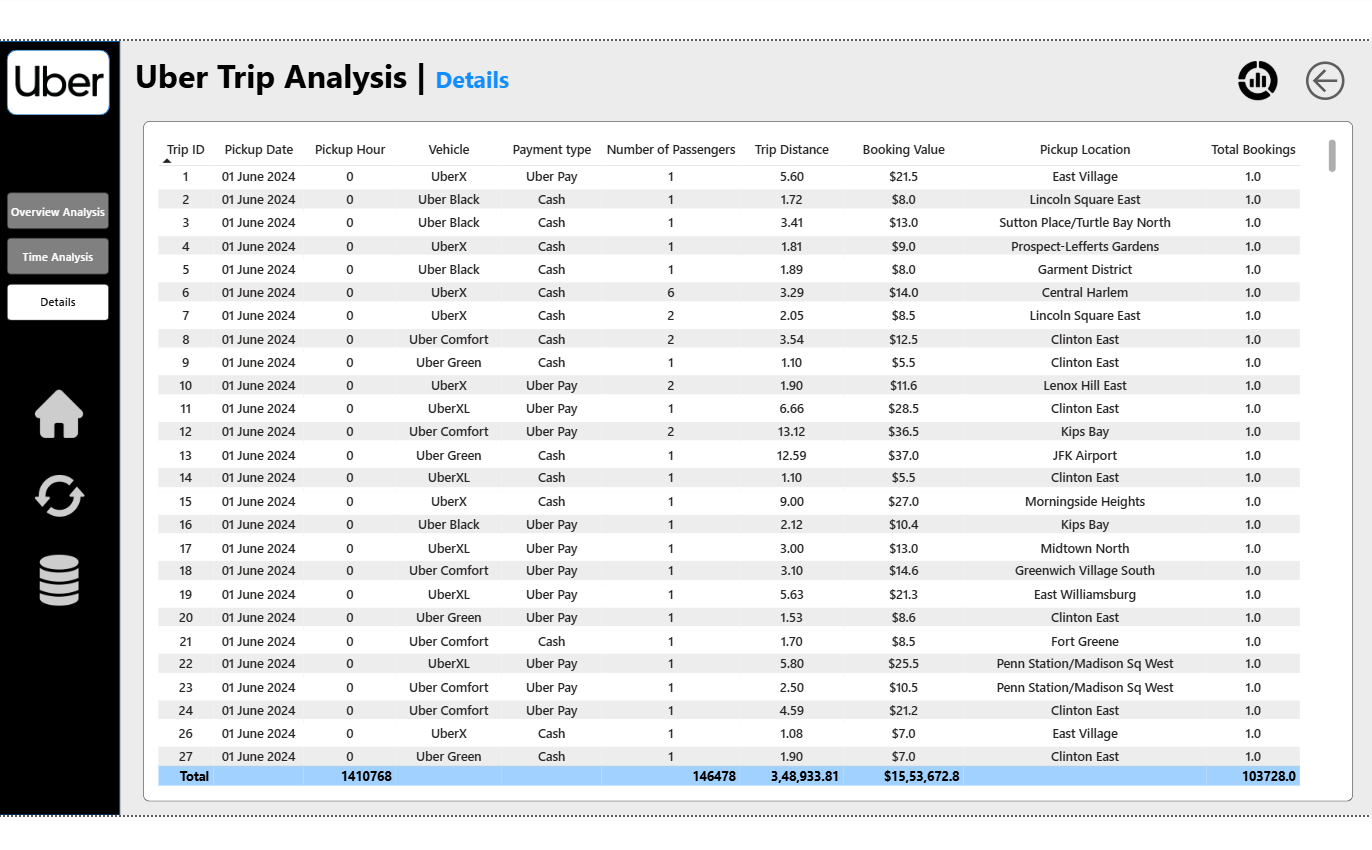

What the dashboard file says about the page in this screenshot:
{"tool":"powerbi","page":{"name":"Details","canvas":[1600,900],"ordinal":2},"visuals":[{"type":"shape","box":[0,0,142,900.5],"z":0},{"type":"textbox","box":[153.9,10.9,881.7,71.5],"z":1000},{"type":"shape","box":[167.9,93.3,1407.2,791.5],"z":2000},{"type":"tableEx","fields":{"Values":["Trip Details.Trip ID","Trip Details.Pickup Date","Sum(Trip Details.Pickup Hour)","Trip Details.Vehicle","Trip Details.Payment_type","Sum(Trip Details.passenger_count)","Trip Details.Total Trip Distance Measure","Trip Details.Total Booking Amount","Location Table.Location","Trip Details.Total Bookings"]},"box":[180.4,108.8,1380.8,761.9],"z":3000},{"type":"actionButton","box":[1514.5,17.1,60.6,57.5],"z":4000},{"type":"image","box":[1430.8,23.8,69.3,45.5],"z":5000},{"type":"pageNavigator","box":[10.9,175.7,119.7,149.3],"z":6000},{"type":"shape","box":[10.9,10.9,119.7,76.2],"z":7000},{"type":"image","box":[20.2,0,102.6,93.3],"z":8000},{"type":"image","box":[42,404.9,57.5,56],"z":9000},{"type":"image","box":[34.2,500.7,73.1,57.5],"z":10000},{"type":"image","box":[32.7,597.1,77.7,59.1],"z":11000}]}

Visuals, with their boxes on the page's 1600x900 design canvas (x1, y1, x2, y2). These are canvas units, not pixel positions in the 1372x850 screenshot, which may show the page scaled, cropped or inside an application window:
shape: 0/0/142/900
textbox: 154/11/1036/82
shape: 168/93/1575/885
tableEx - Trip Details.Trip ID x Trip Details.Pickup Date: 180/109/1561/871
actionButton: 1514/17/1575/75
image: 1431/24/1500/69
pageNavigator: 11/176/131/325
shape: 11/11/131/87
image: 20/0/123/93
image: 42/405/100/461
image: 34/501/107/558
image: 33/597/110/656
